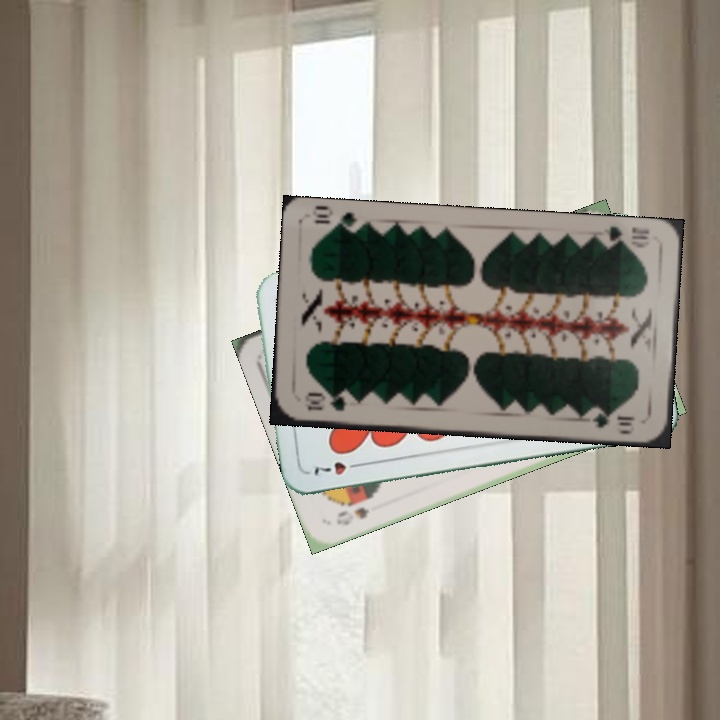G10: (596, 222, 652, 251), (300, 390, 349, 414)
H7: (309, 457, 365, 478)
SO: (332, 503, 372, 528)
